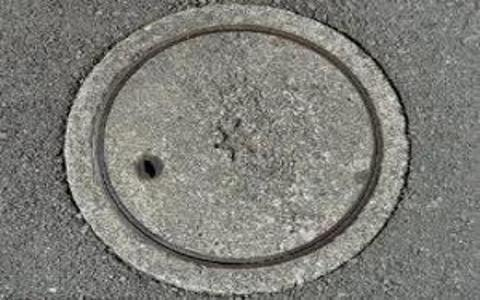proper manhole: (53, 5, 412, 292)
